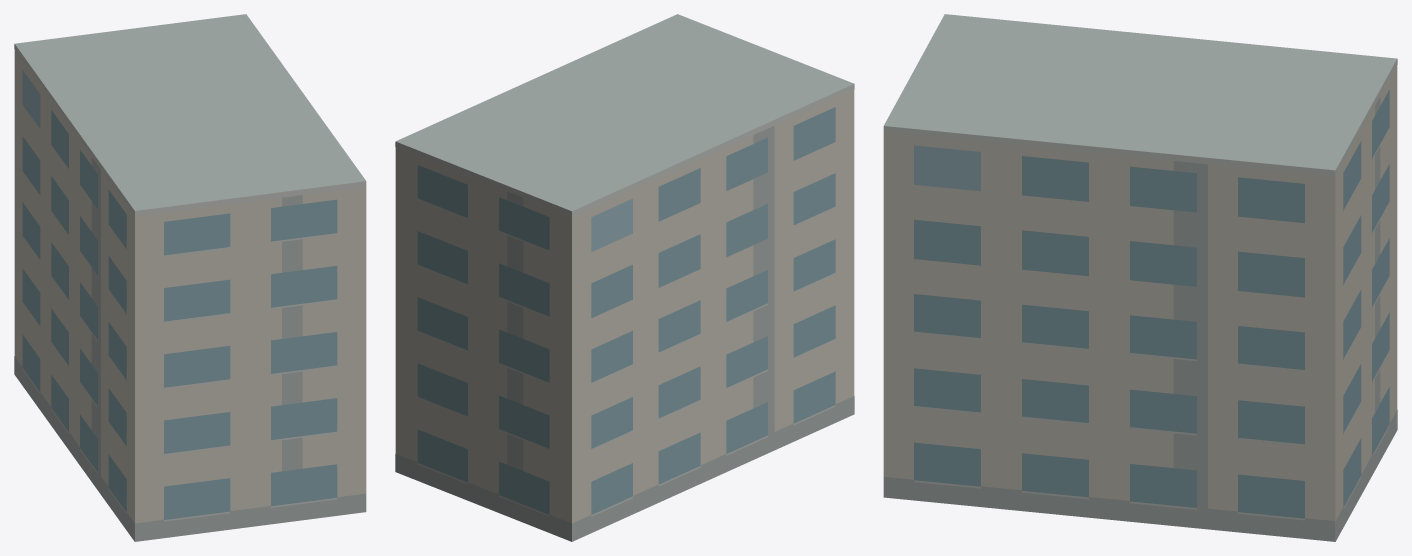
File: survey-upis-32806149.glb
3 views of the same model, side by side, from view 1: azimuth 30°, elevation 25°; view 2: azimuth 150°, elevation 25°; view 3: azimuth 270°, elevation 25° (orthographic). The views are drawn at different scales.
Parts seen in each view (by area): view 1: survey-upis-32806149.tmp; view 2: survey-upis-32806149.tmp; view 3: survey-upis-32806149.tmp.
Part boxes in pixels (x1,y1,x2,y2): survey-upis-32806149.tmp: (14,14,366,541); survey-upis-32806149.tmp: (395,14,854,541); survey-upis-32806149.tmp: (883,14,1397,541).
Size of the model in its own units: 12.65 by 14 by 17.56.
